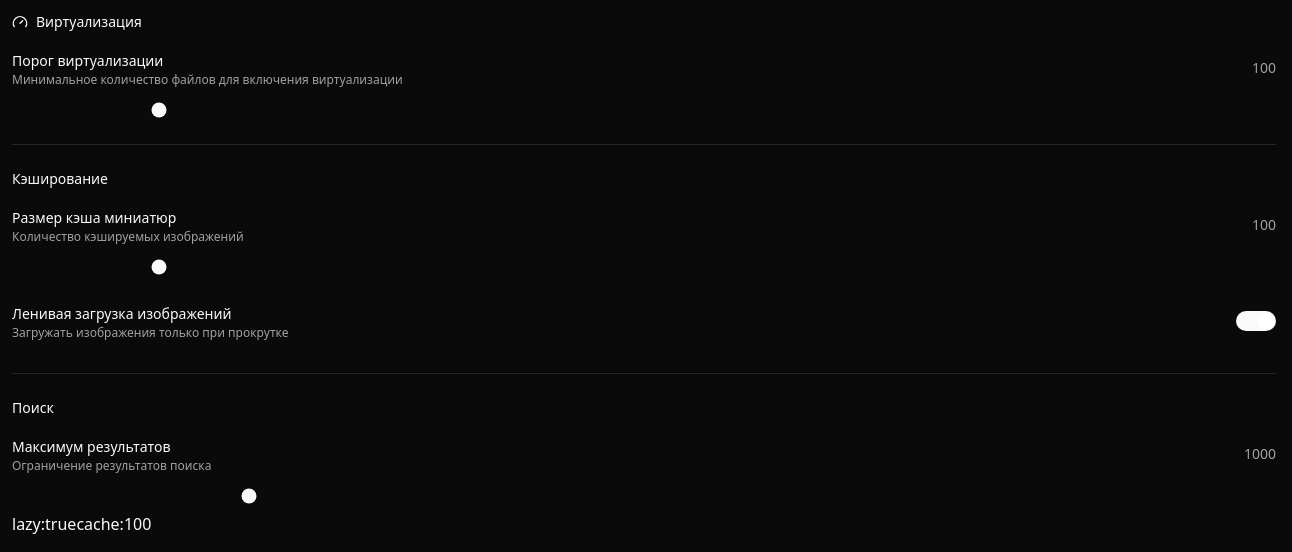
it: PerformanceSettings integration › slider 'Размер кэша миниатюр' updates store and reflected in consumer
// change to 150
Set the slider below "Количество кэшируемых изображений" to "150" at (297, 267), box [12, 263, 1276, 271]
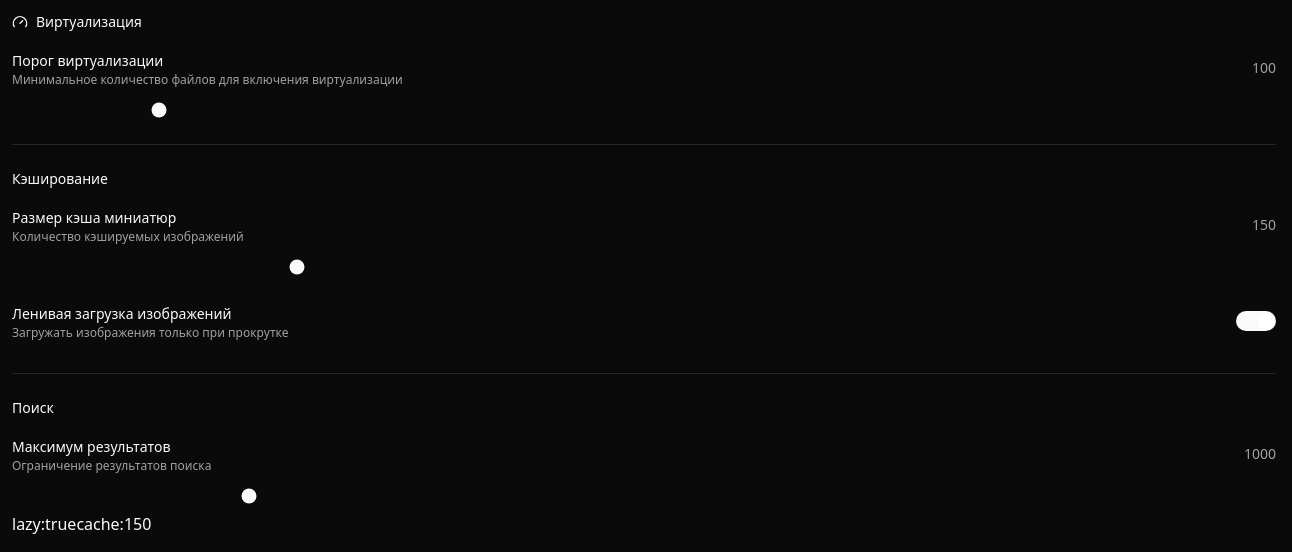
Result: the element with test id "perf-values" shows "cache:150" at [12, 513, 151, 535]
